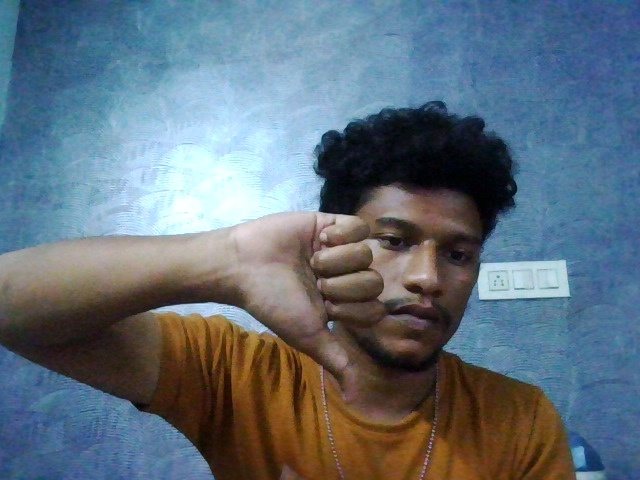no: (220, 185, 385, 413)
